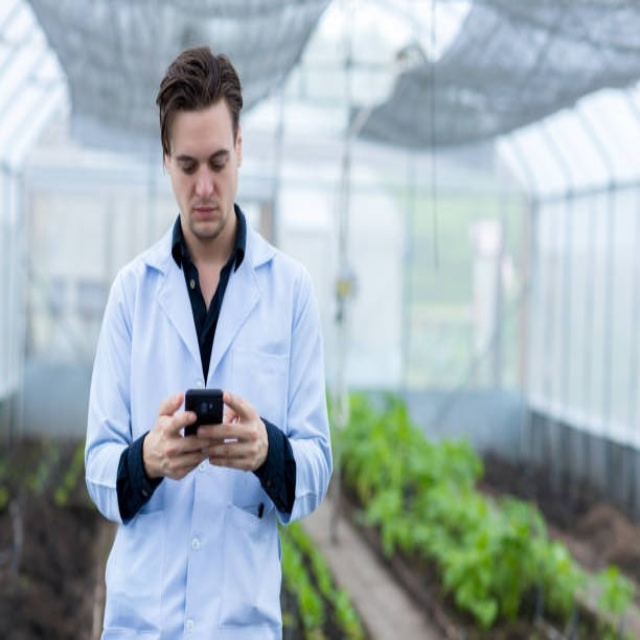Sin_gafas: (172, 140, 238, 184)
Sin_guantes: (145, 389, 214, 482), (201, 383, 267, 477)
Sin_mascara: (185, 195, 228, 234)
